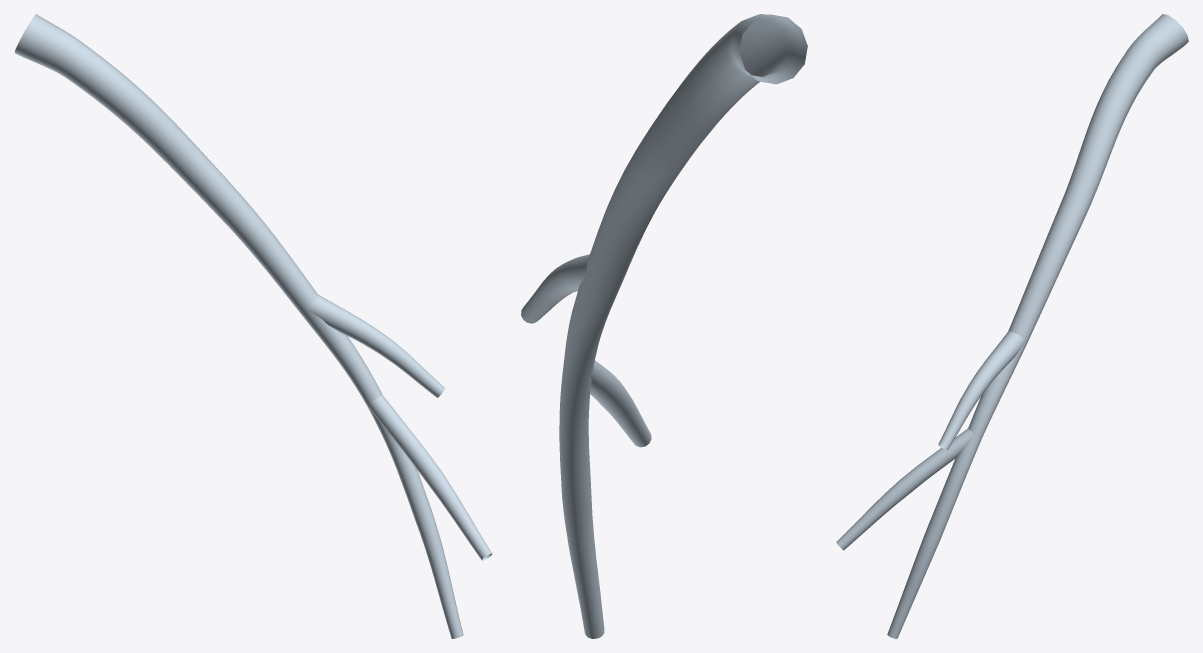
Rendered from visceras-anteromedial-basal-segmental-bronchus-of-left-lung.glb.
The picture shows the model from 3 angles, left to right: view 1: azimuth 30°, elevation 25°; view 2: azimuth 150°, elevation 25°; view 3: azimuth 270°, elevation 25°; orthographic projection. The views are drawn at different scales.
Visible parts, largest first — view 1: (Anteromedial basal segmental bronchus of left lung); view 2: (Anteromedial basal segmental bronchus of left lung); view 3: (Anteromedial basal segmental bronchus of left lung).
Boxes of the visible parts, left/top/right/bottom form: (Anteromedial basal segmental bronchus of left lung): left=14, top=14, right=492, bottom=638; (Anteromedial basal segmental bronchus of left lung): left=521, top=14, right=807, bottom=638; (Anteromedial basal segmental bronchus of left lung): left=836, top=14, right=1188, bottom=638.
Bounding box in the file's own units: 0.055 × 0.0991 × 0.0624.
